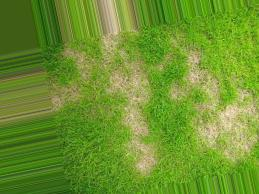patch: (128, 113, 141, 131), (200, 129, 215, 137), (111, 77, 123, 87), (218, 114, 231, 123), (131, 77, 141, 88), (55, 94, 66, 102), (138, 155, 144, 166)
